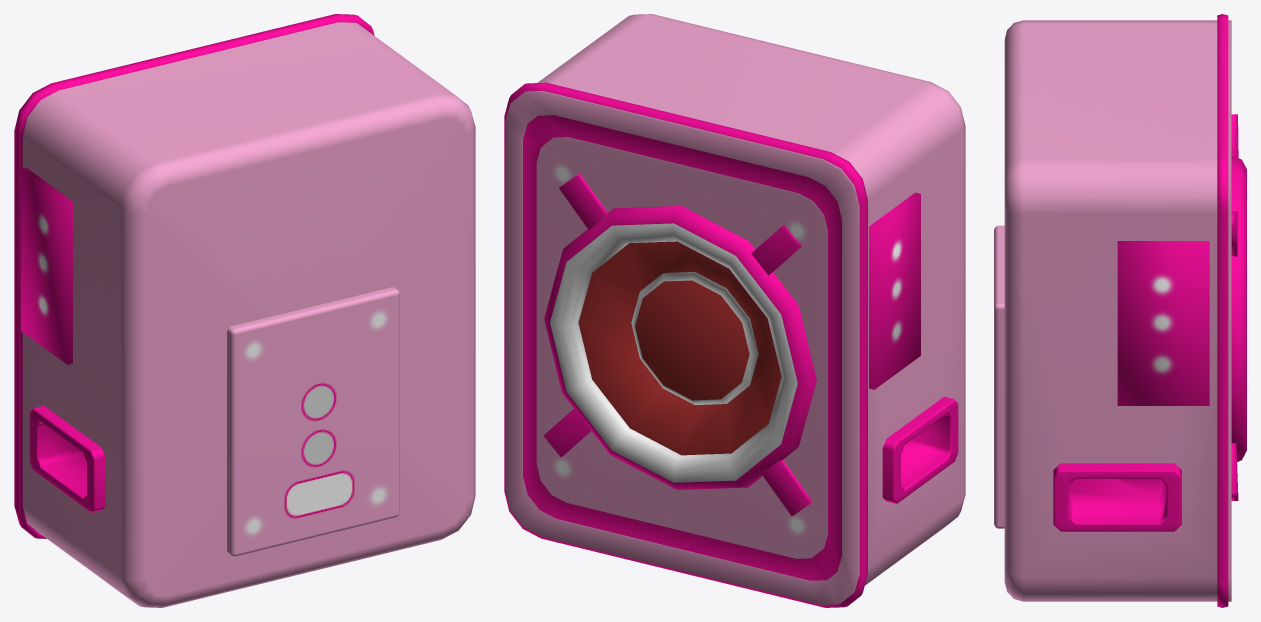
File: MEC0110014.fbx
3 views of the same model, side by side, from view 1: azimuth 30°, elevation 25°; view 2: azimuth 150°, elevation 25°; view 3: azimuth 270°, elevation 25° (orthographic).
Parts seen in each view (by area): view 1: smMEC0110014; view 2: smMEC0110014; view 3: smMEC0110014.
Boxes of the visible parts, x1=… form: smMEC0110014: x1=14, y1=14, x2=475, y2=607; smMEC0110014: x1=504, y1=14, x2=965, y2=607; smMEC0110014: x1=994, y1=14, x2=1246, y2=607.
Bounding box in the file's own units: 469 × 538 × 274.
1 material, 1 textured.
